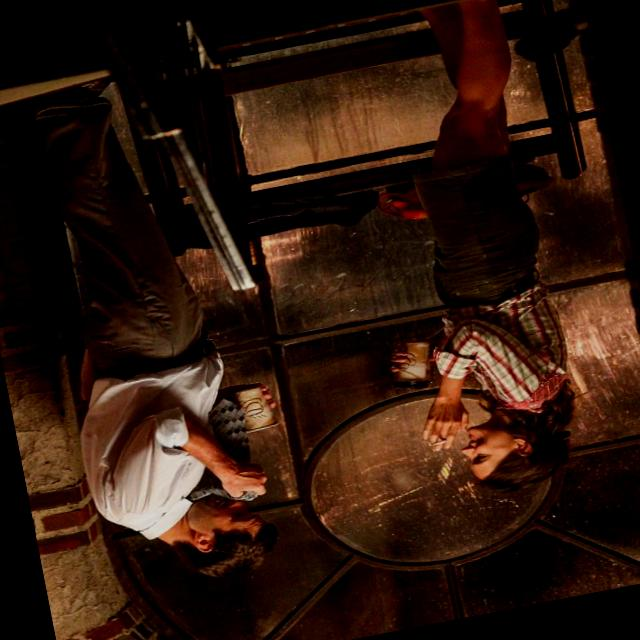smoke: (419, 430, 464, 455)
